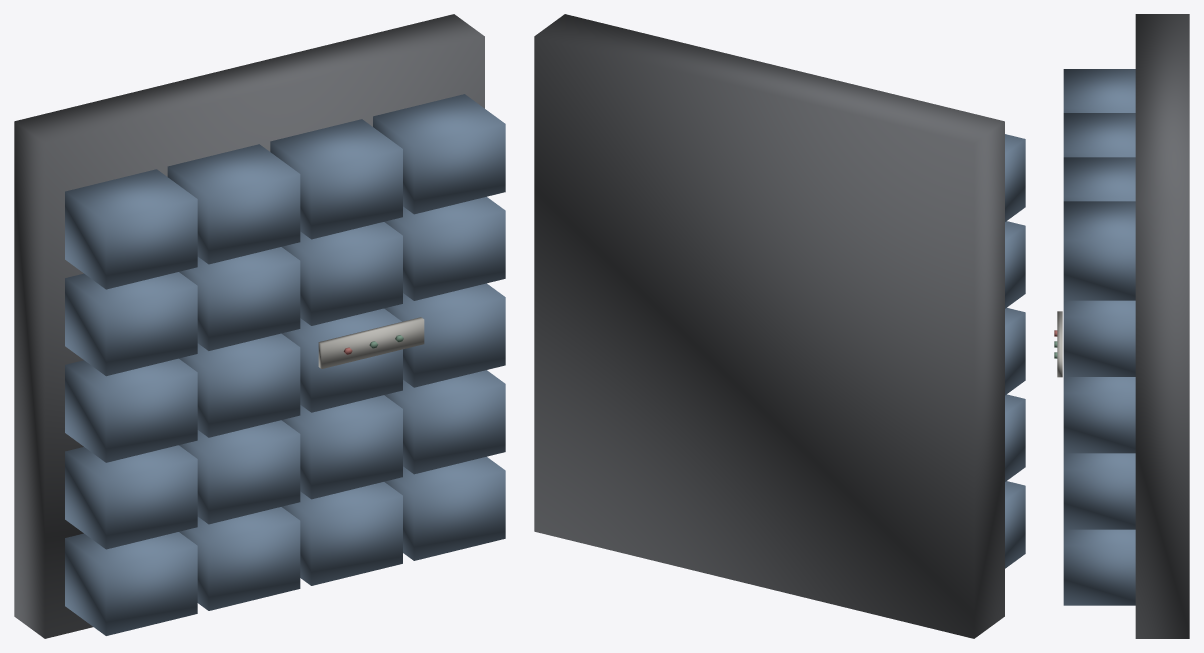
The model's file is parts_bin_rack__wide.glb.
The picture shows the model from 3 angles, left to right: view 1: azimuth 30°, elevation 25°; view 2: azimuth 150°, elevation 25°; view 3: azimuth 270°, elevation 25°; orthographic projection. The views are drawn at different scales.
Visible parts, largest first — view 1: world; view 2: world; view 3: world.
Part boxes in pixels (box(x1,y1,x2,y2)): world: box(14, 14, 505, 638); world: box(534, 14, 1025, 638); world: box(1054, 14, 1189, 638).
Size of the model in its own units: 1.49 by 1.6 by 0.451.
